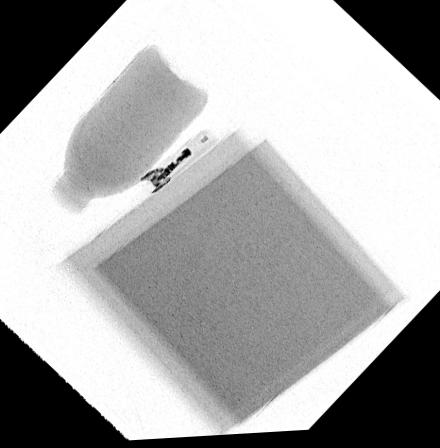Lighter: (138, 130, 215, 197)
